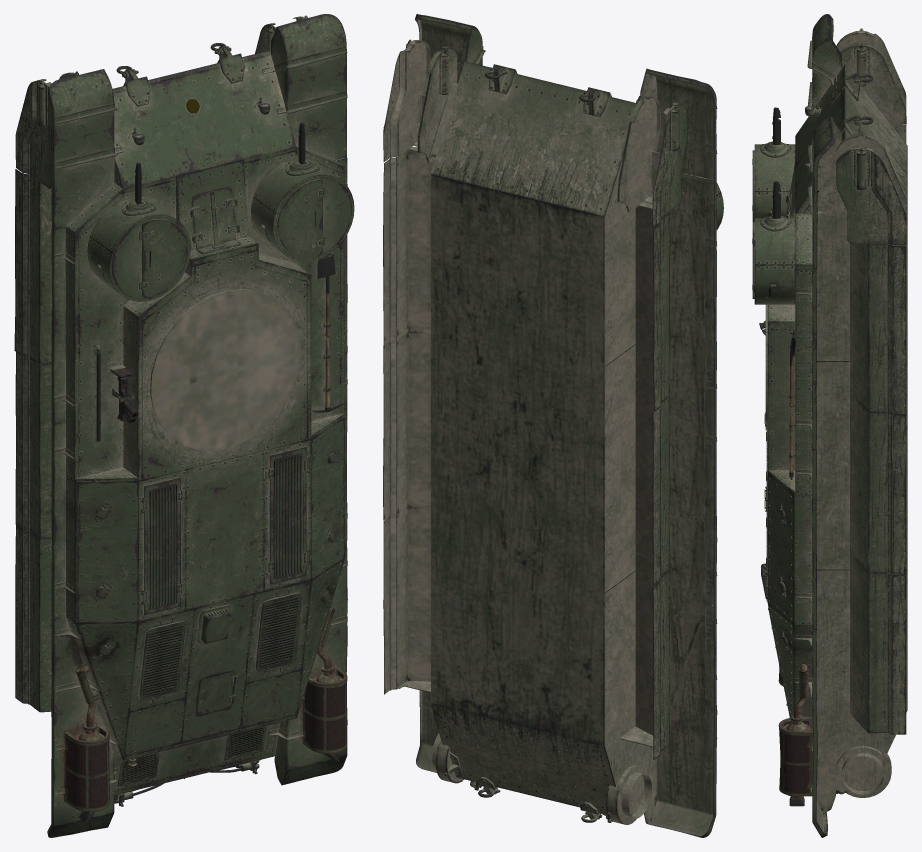
Rendered from Hull.glb.
3 views of the same model, side by side, from view 1: azimuth 30°, elevation 25°; view 2: azimuth 150°, elevation 25°; view 3: azimuth 270°, elevation 25° (orthographic). The views are drawn at different scales.
Visible parts, largest first — view 1: set_0_group_0; view 2: set_0_group_0; view 3: set_0_group_0.
Boxes of the visible parts, box(x1,y1,x2,y2) form: set_0_group_0: box(14, 14, 354, 837); set_0_group_0: box(383, 14, 723, 837); set_0_group_0: box(752, 14, 907, 837).
Bounding box in the file's own units: 3.72 × 9.15 × 1.84.
Materials: 1 (1 with a texture image).
